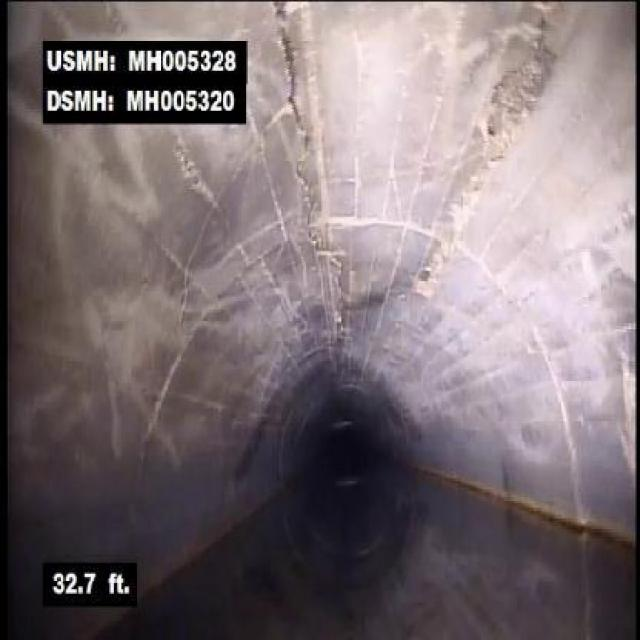Crack: (452, 9, 563, 242), (272, 2, 325, 222), (157, 137, 217, 208)
